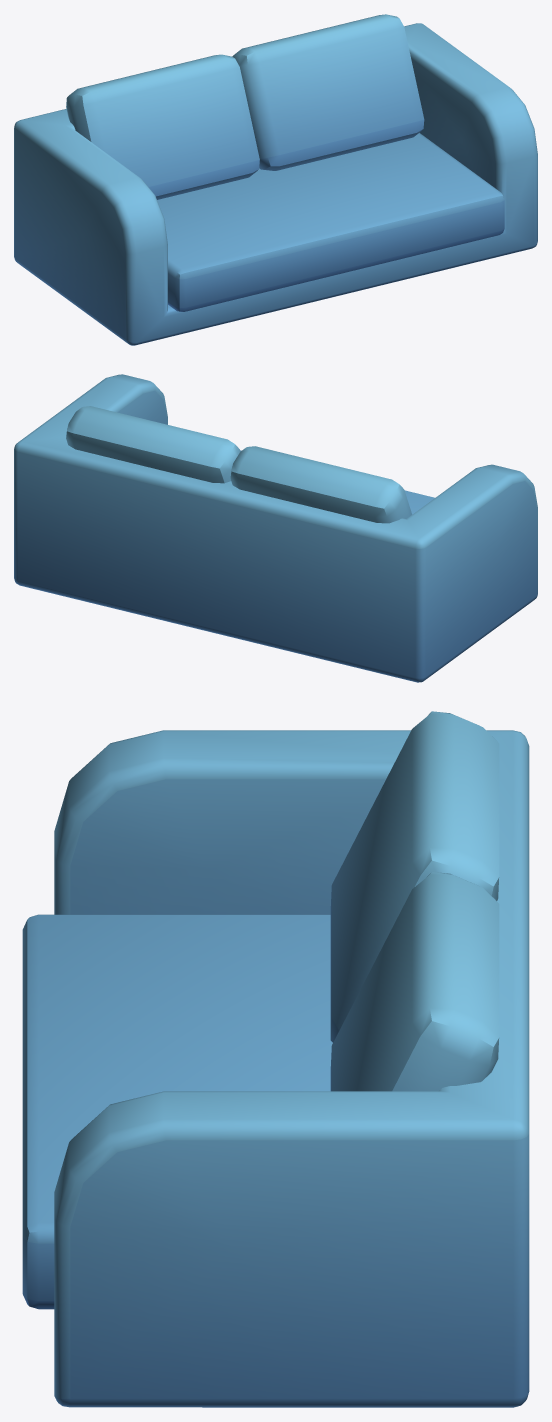
The picture shows the model from 3 angles, top to bottom: view 1: azimuth 30°, elevation 25°; view 2: azimuth 150°, elevation 25°; view 3: azimuth 270°, elevation 25°; orthographic projection. The views are drawn at different scales.
Visible parts, largest first — view 1: couch; view 2: couch; view 3: couch.
Boxes of the visible parts, <box> form: couch: <box>14,14,537,345</box>; couch: <box>14,374,537,682</box>; couch: <box>22,711,529,1407</box>.
Bounding box in the file's own units: 3 × 1.22 × 1.6.
1 material, 1 textured.
